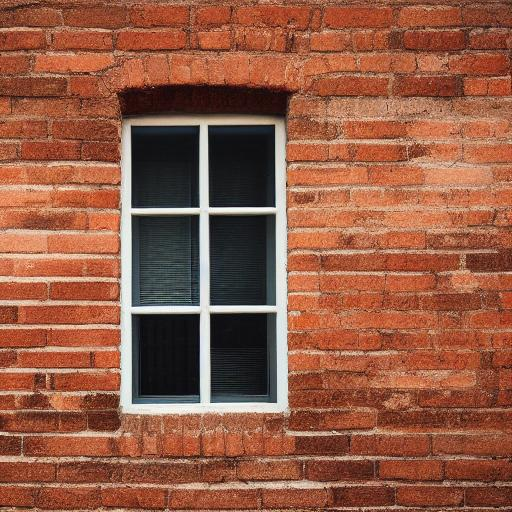Window: (104, 53, 299, 423)
